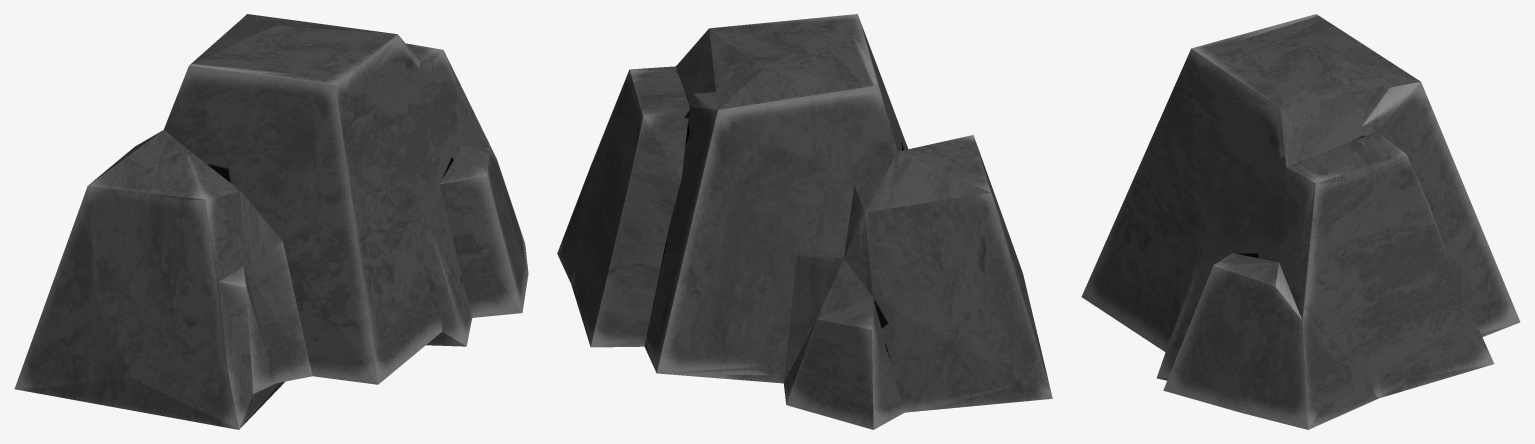
Rendered from ROCK A LOD.fbx.
The picture shows the model from 3 angles, left to right: view 1: azimuth 30°, elevation 25°; view 2: azimuth 150°, elevation 25°; view 3: azimuth 270°, elevation 25°; orthographic projection. The views are drawn at different scales.
Visible parts, largest first — view 1: ROCK A LOD; view 2: ROCK A LOD; view 3: ROCK A LOD.
Part boxes in pixels (left/top/right/bottom): ROCK A LOD: left=14, top=14, right=528, bottom=429; ROCK A LOD: left=557, top=14, right=1052, bottom=429; ROCK A LOD: left=1081, top=14, right=1520, bottom=429.
Size of the model in its own units: 3.23 by 1.76 by 2.43.
